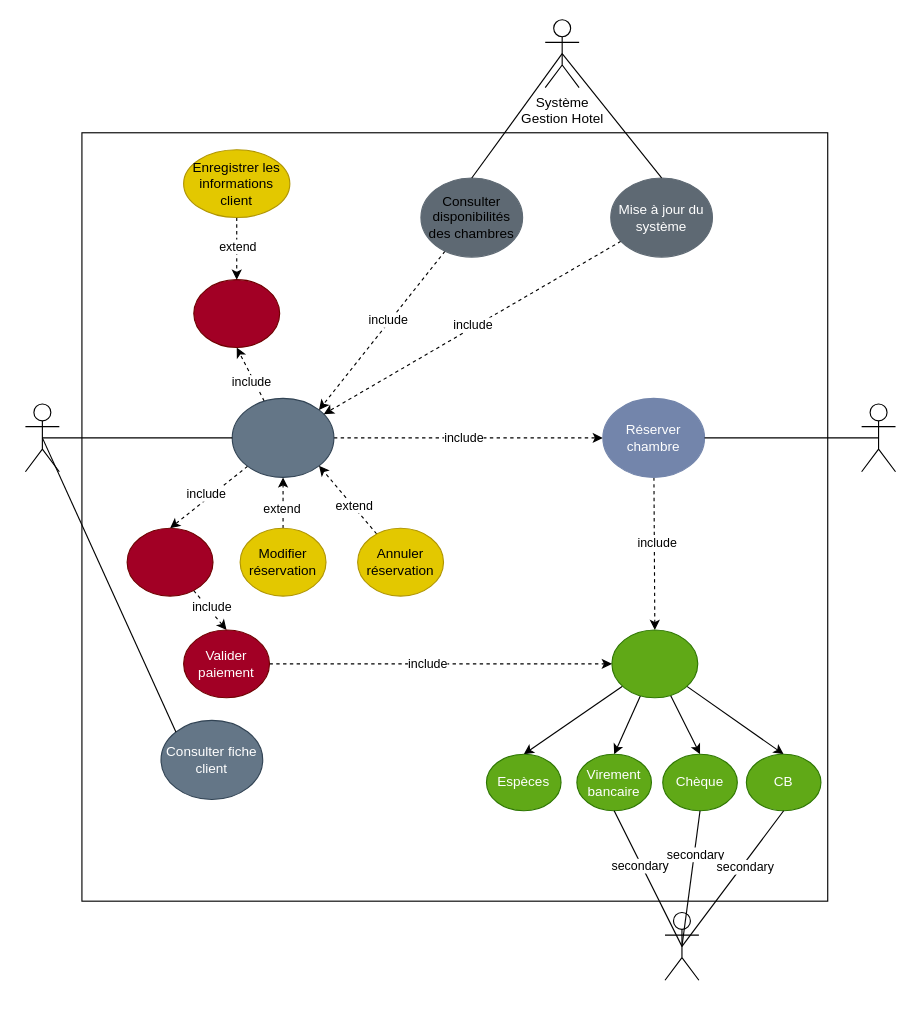
Image size: 915x1024. Some labels were removed from this diagram. The centre of each missing label's shape, as x and y in pixels:
Banque: pixel 681 945
Client: pixel 878 437
Gérer réservations: pixel 282 437
Hôtelier: pixel 41 437
Payer: pixel 654 663
Prendre réservation: pixel 169 561
Vérifier si client: pixel 236 313
